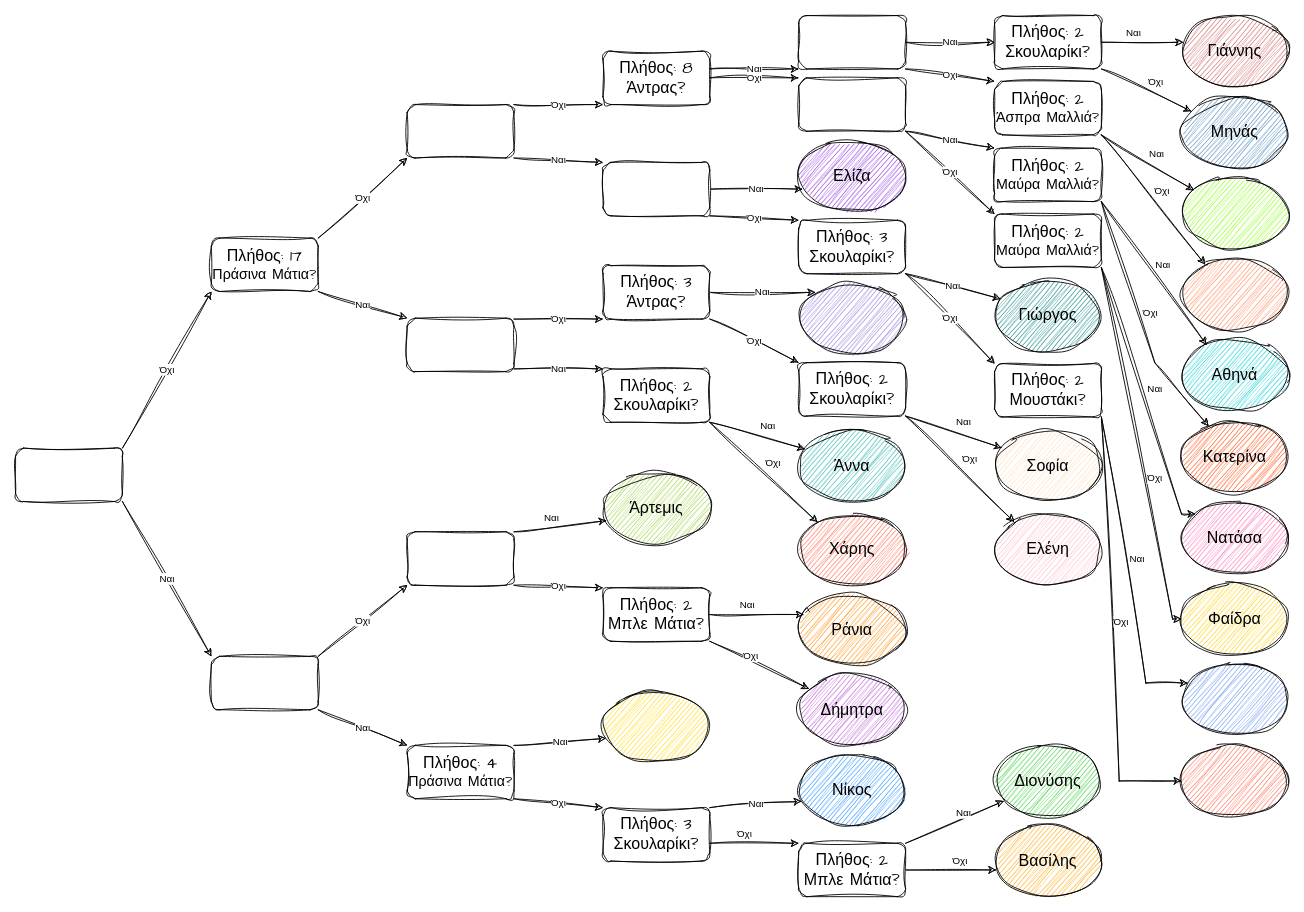
The diagram is 1304 pixels wide and 912 high, and some of its shapes have lost their labels. The centre of each missing label's shape, as x and y in pixels:
Αλέξανδρος: (x=852, y=318)
Λάζαρος: (x=1234, y=294)
Λεωνίδας: (x=1234, y=213)
Μερόπη: (x=1234, y=780)
Πλήθος : 12 Γυαλιά?: (x=460, y=131)
Πλήθος : 3 Μαύρα Μαλλιά ?: (x=460, y=558)
Πλήθος : 4 Άσπρα Μαλλιά?: (x=656, y=189)
Πλήθος : 4 Μαύρα Μαλλιά ?: (x=852, y=42)
Πλήθος : 4 Μπλε Μάτια?: (x=852, y=104)
Πλήθος : 5 Μαύρα Μαλλιά ?: (x=460, y=344)
Πλήθος : 7 Άντρας?: (x=264, y=682)
Πλήθος: 24 Φακίδες?: (x=68, y=474)
Σπύρος: (x=656, y=726)
Στέλιος: (x=1234, y=699)
